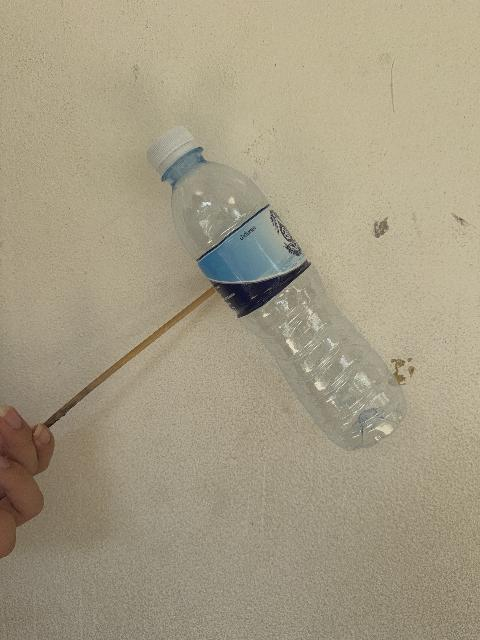bottle: (148, 127, 406, 450)
